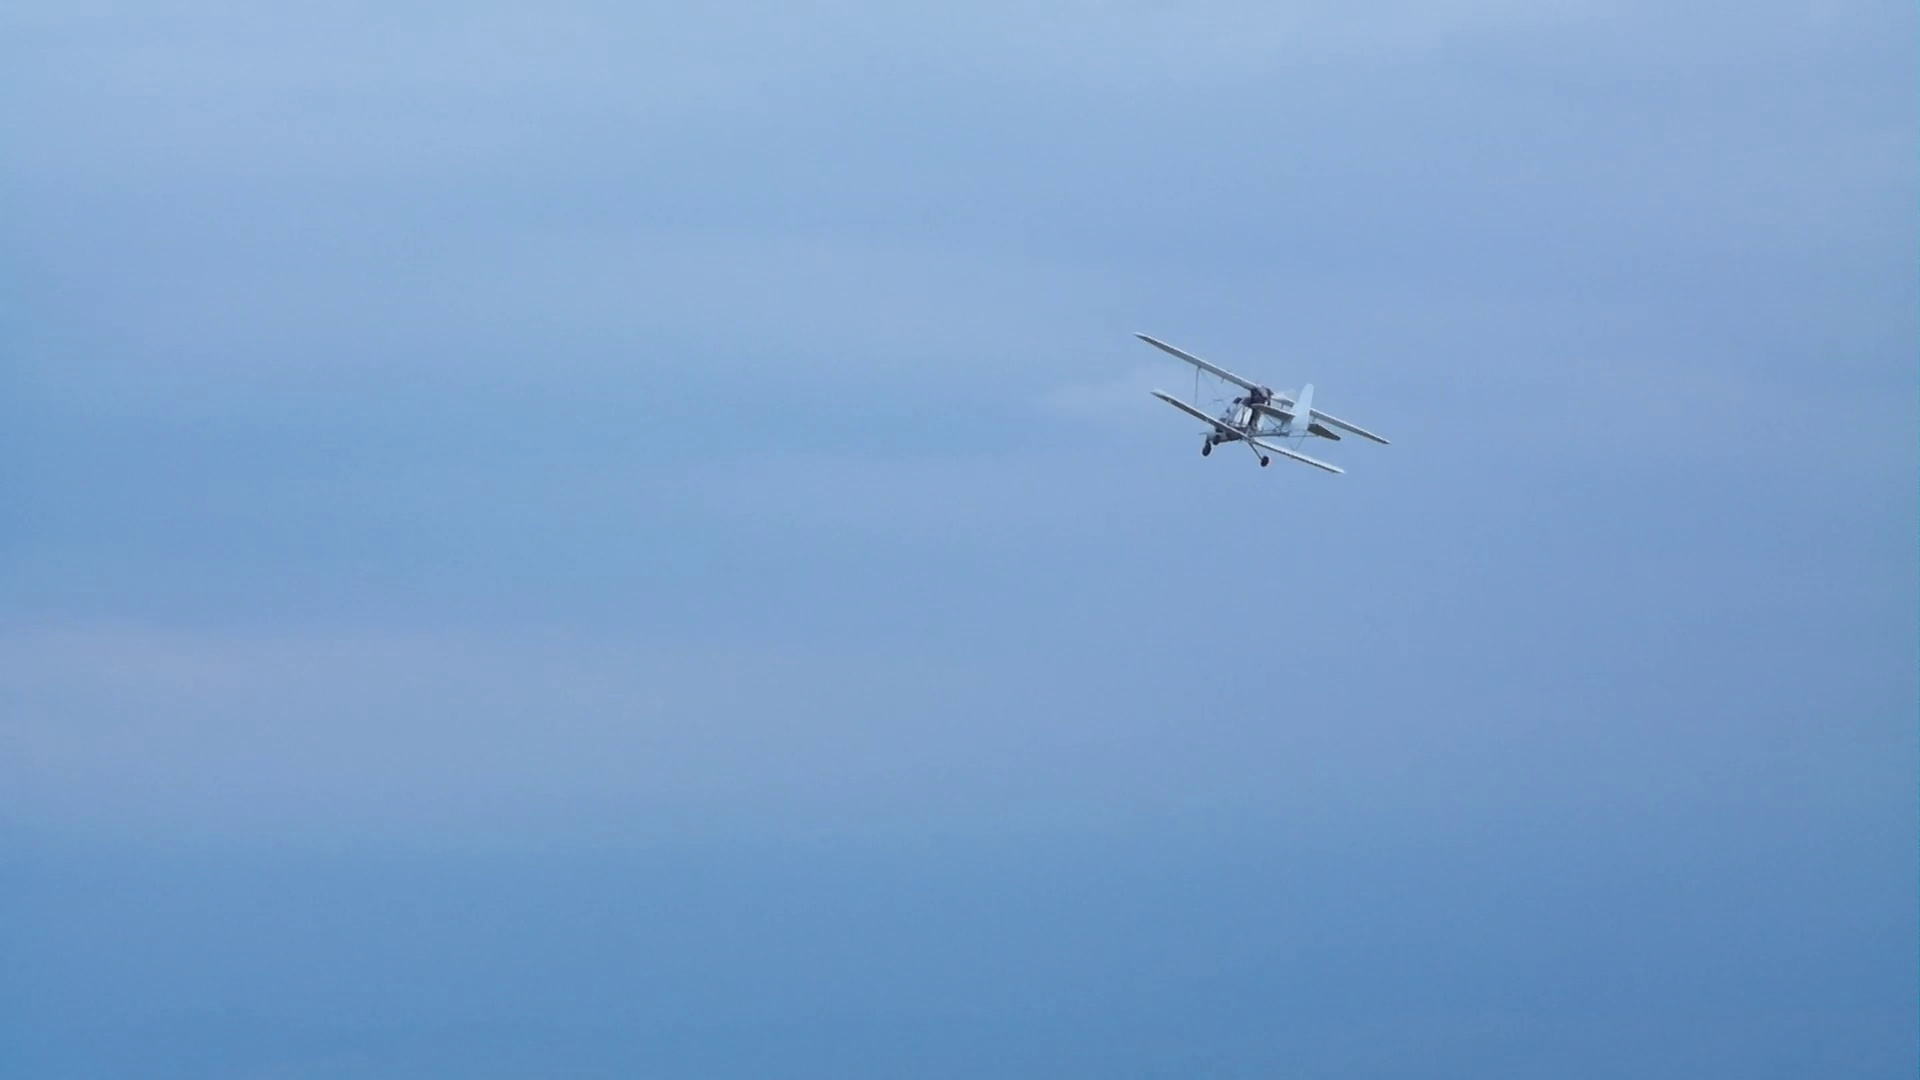plane: (1135, 334, 1390, 477)
